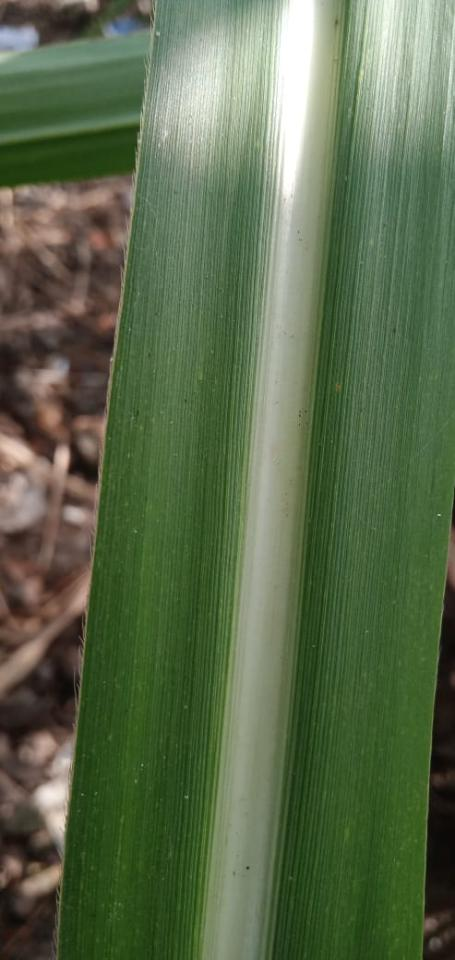Healthy: (58, 0, 454, 959), (0, 30, 149, 186)
